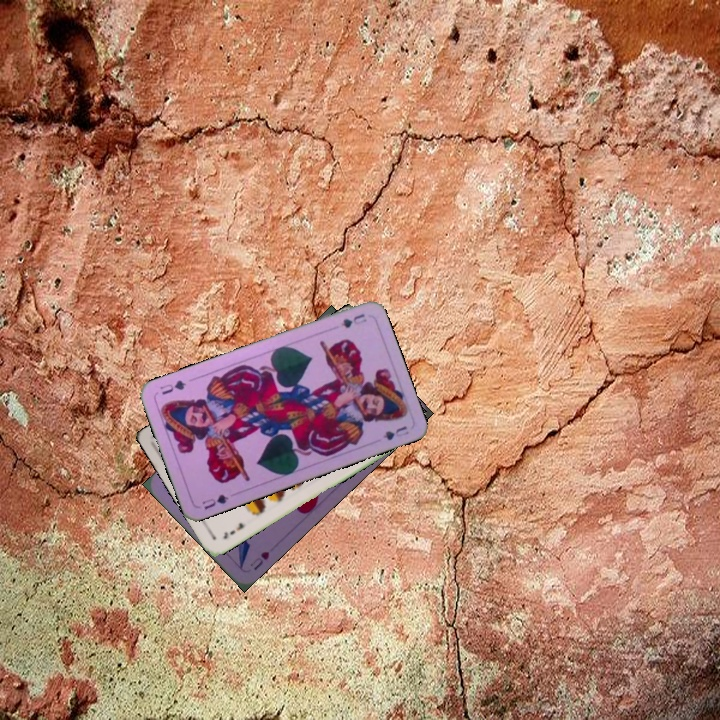E7: (219, 518, 247, 542)
GU: (198, 490, 231, 512), (337, 309, 369, 331)
HU: (246, 547, 272, 573)
